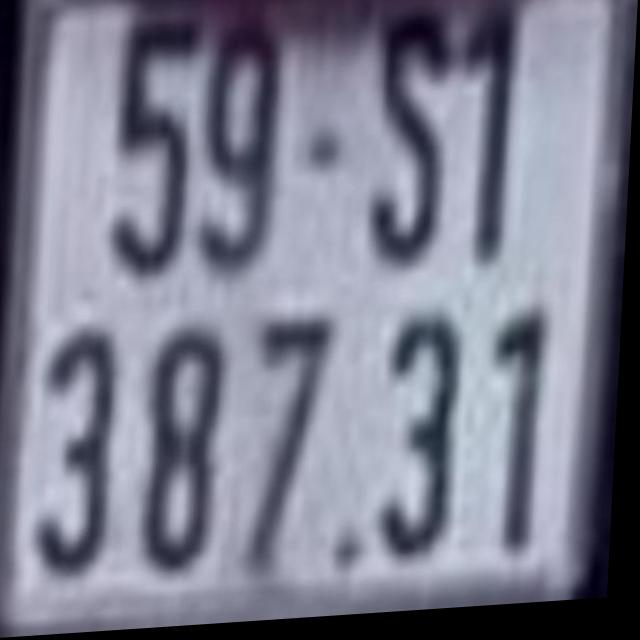1: (460, 10, 520, 272), (494, 308, 551, 562)
3: (38, 327, 119, 569), (390, 319, 467, 561)
5: (116, 26, 196, 278)
7: (258, 324, 334, 574)
8: (151, 334, 220, 568)
9: (208, 30, 281, 266)
S: (378, 18, 453, 273)
